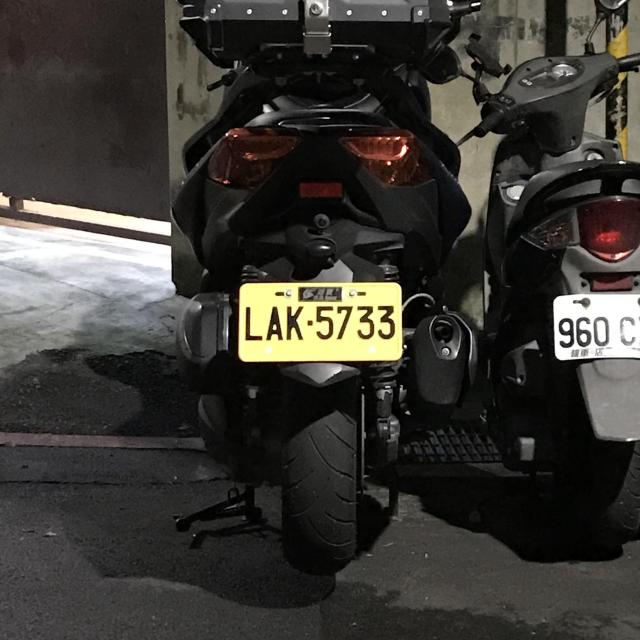W: (233, 276, 405, 363), (548, 286, 640, 364)
